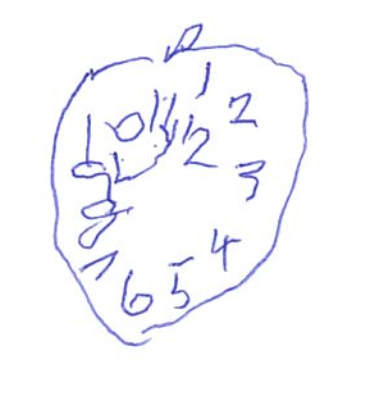1: (194, 59, 213, 103)
10: (83, 108, 145, 159)
11: (147, 88, 178, 134)
2: (228, 92, 258, 127)
3: (231, 160, 267, 202)
4: (209, 228, 241, 273)
5: (165, 257, 196, 311)
6: (120, 268, 155, 317)
7: (77, 248, 119, 279)
8: (75, 197, 119, 250)
9: (69, 160, 114, 203)
contour: (47, 44, 311, 348)
